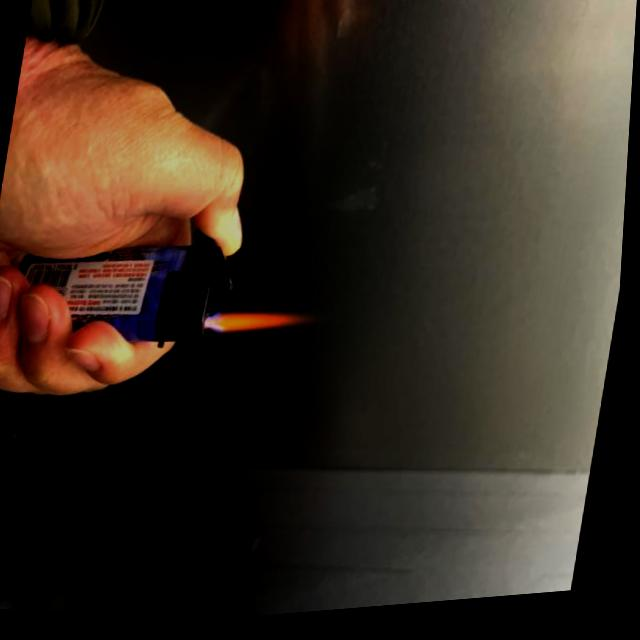helmet: (209, 308, 320, 348)
